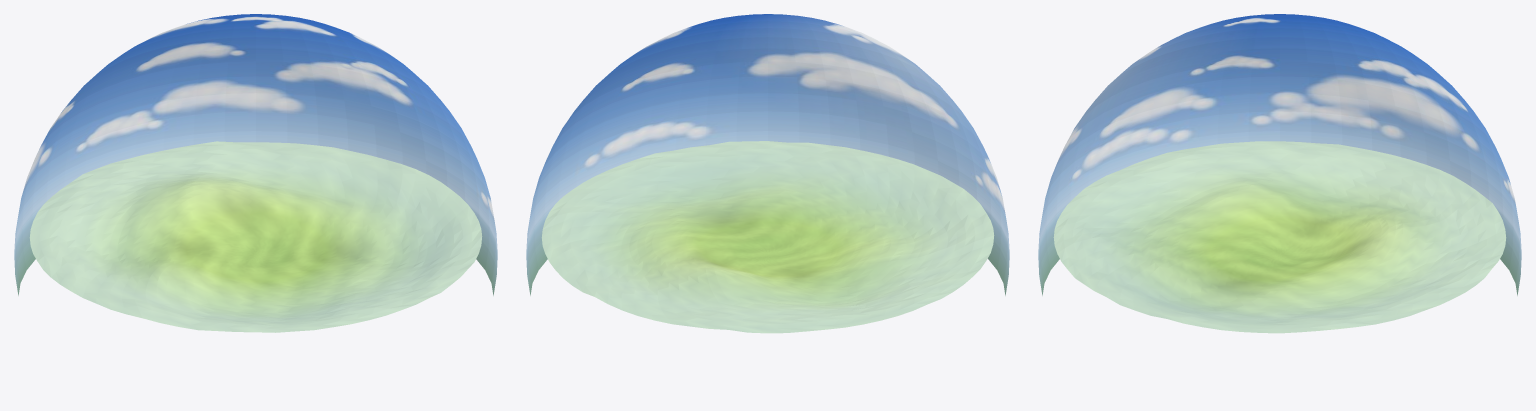
File: landscape.glb
3 renders of one model, left to right at view 1: azimuth 30°, elevation 25°; view 2: azimuth 150°, elevation 25°; view 3: azimuth 270°, elevation 25°, orthographic.
Parts seen in each view (by area): view 1: hill, sky; view 2: hill, sky; view 3: hill, sky.
Part boxes in pixels (x1,y1,x2,y2): hill: (29, 141, 482, 332); sky: (14, 14, 497, 295); hill: (541, 141, 994, 333); sky: (526, 14, 1009, 295); hill: (1053, 141, 1506, 333); sky: (1038, 14, 1521, 295).
Size of the model in its own units: 124 by 73.62 by 124.
Materials: 2 (1 with a texture image).
